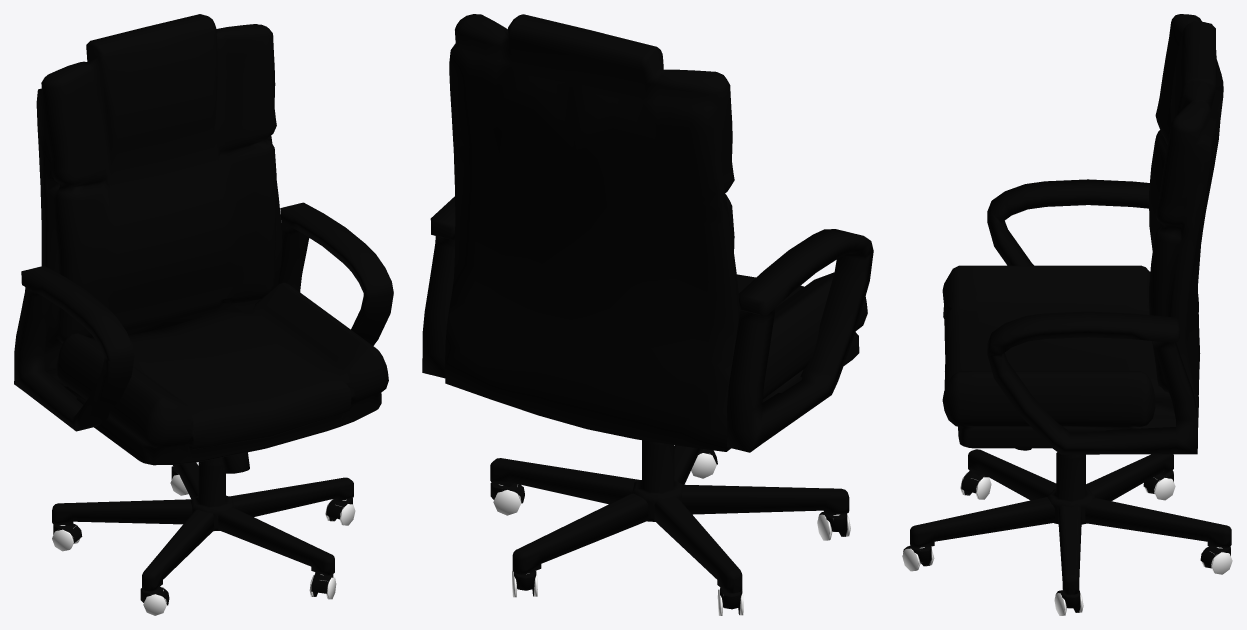
File: officechair.fbx
The picture shows the model from 3 angles, left to right: view 1: azimuth 30°, elevation 25°; view 2: azimuth 150°, elevation 25°; view 3: azimuth 270°, elevation 25°; orthographic projection. The views are drawn at different scales.
Visible parts, largest first — view 1: ChairBack_LP; view 2: ChairBack_LP; view 3: ChairBack_LP.
Boxes of the visible parts, x1,y1,x2,y2 form: ChairBack_LP: (14, 14, 393, 615); ChairBack_LP: (422, 14, 873, 615); ChairBack_LP: (902, 14, 1232, 615).
Size of the model in its own units: 74.09 by 120 by 71.87.
Materials: 1 (1 with a texture image).
